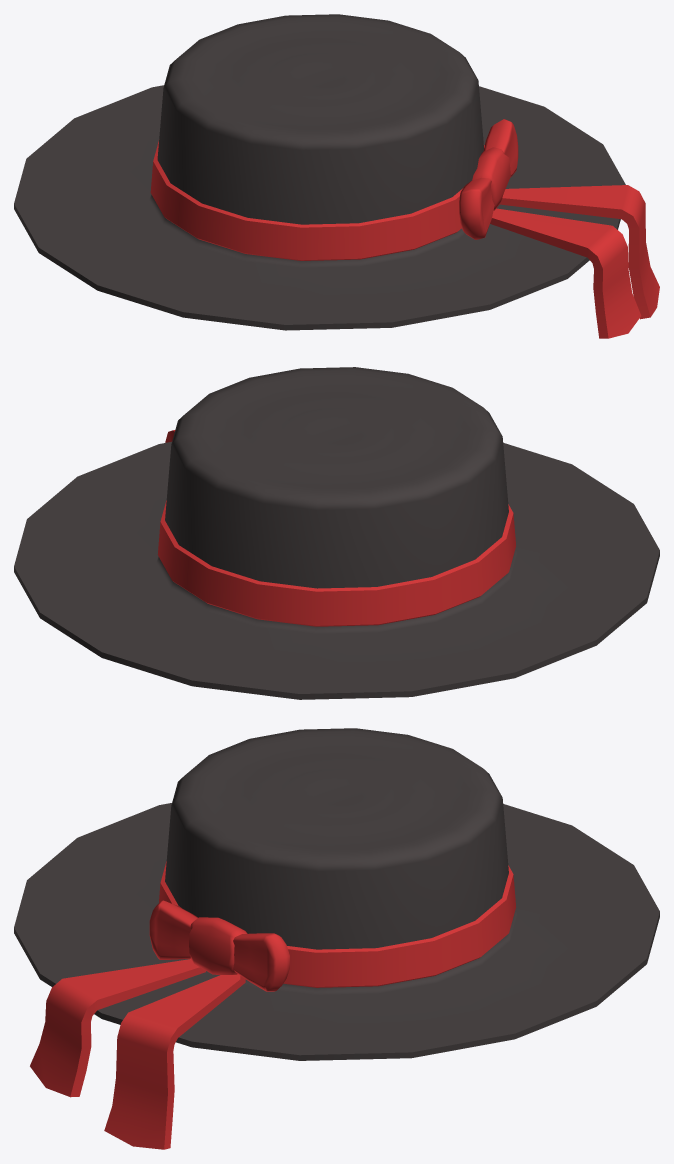
Rendered from Hat_70_02.fbx.
3 renders of one model, top to bottom at view 1: azimuth 30°, elevation 25°; view 2: azimuth 150°, elevation 25°; view 3: azimuth 270°, elevation 25°, orthographic. The views are drawn at different scales.
Parts seen in each view (by area): view 1: Hat_70_02; view 2: Hat_70_02; view 3: Hat_70_02.
Part boxes in pixels (box(x1,y1,x2,y2)): Hat_70_02: box(14, 14, 659, 338); Hat_70_02: box(14, 367, 659, 699); Hat_70_02: box(14, 728, 659, 1149).
Size of the model in its own units: 56.8 by 22.76 by 57.08.
